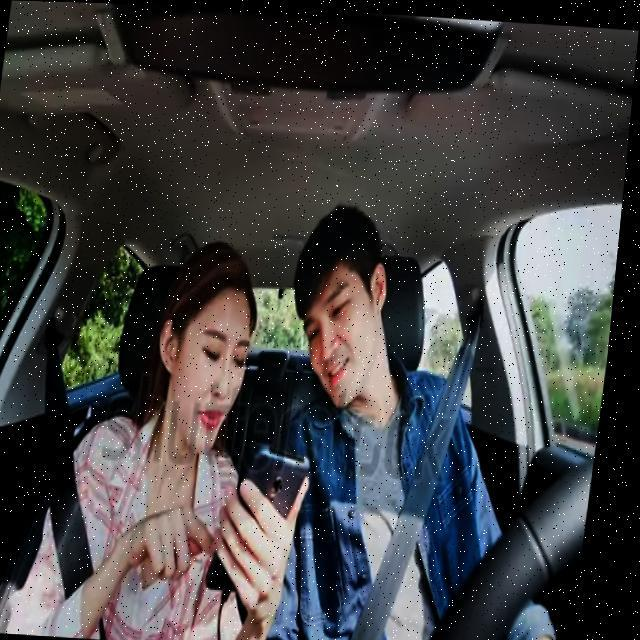PhoneCall: (213, 438, 320, 594)
